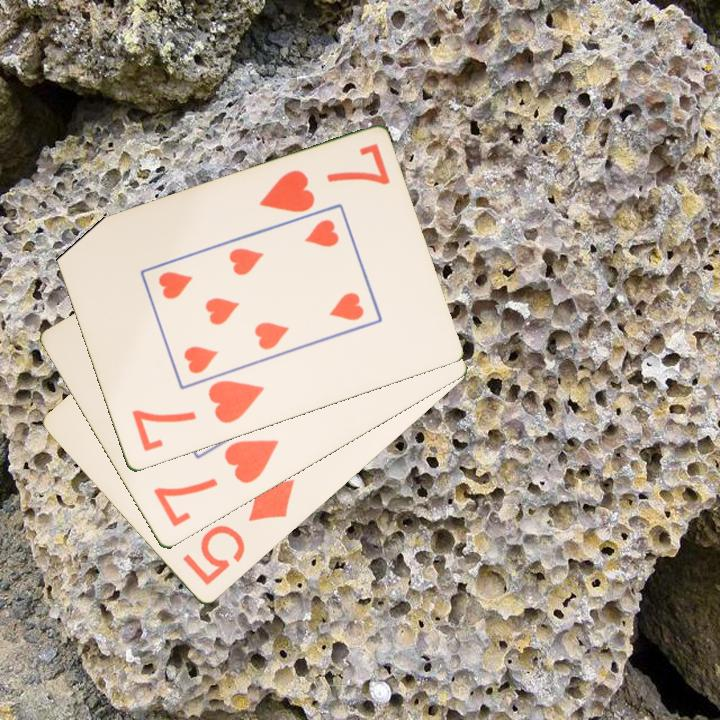5d: (179, 476, 298, 589)
7h: (149, 436, 282, 531), (128, 377, 267, 455), (255, 140, 393, 216)
